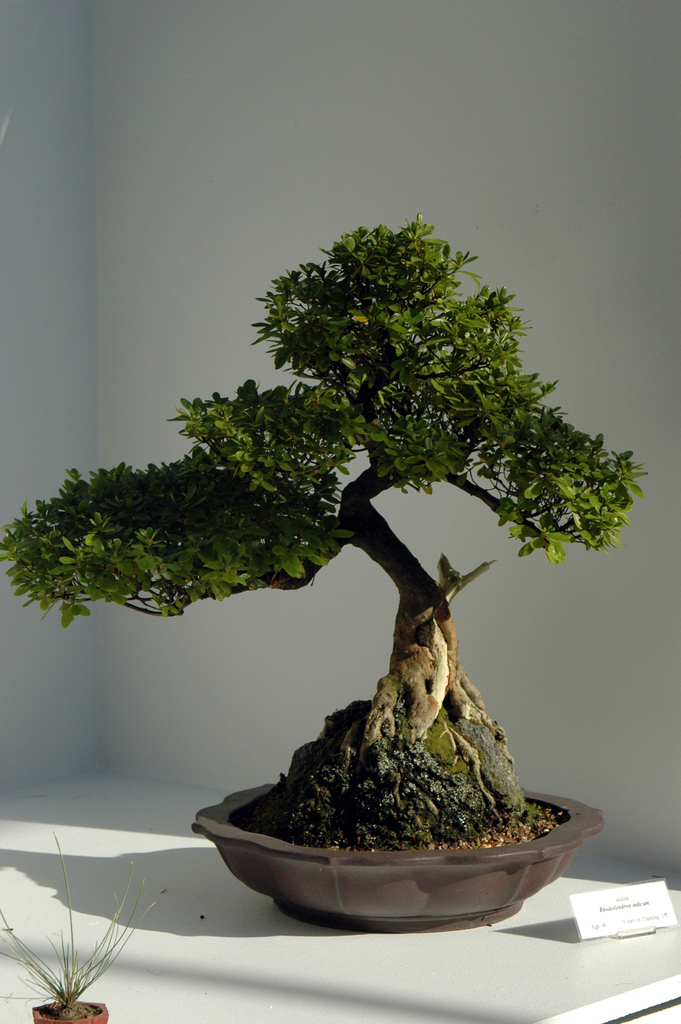Tree: (0, 212, 648, 851)
